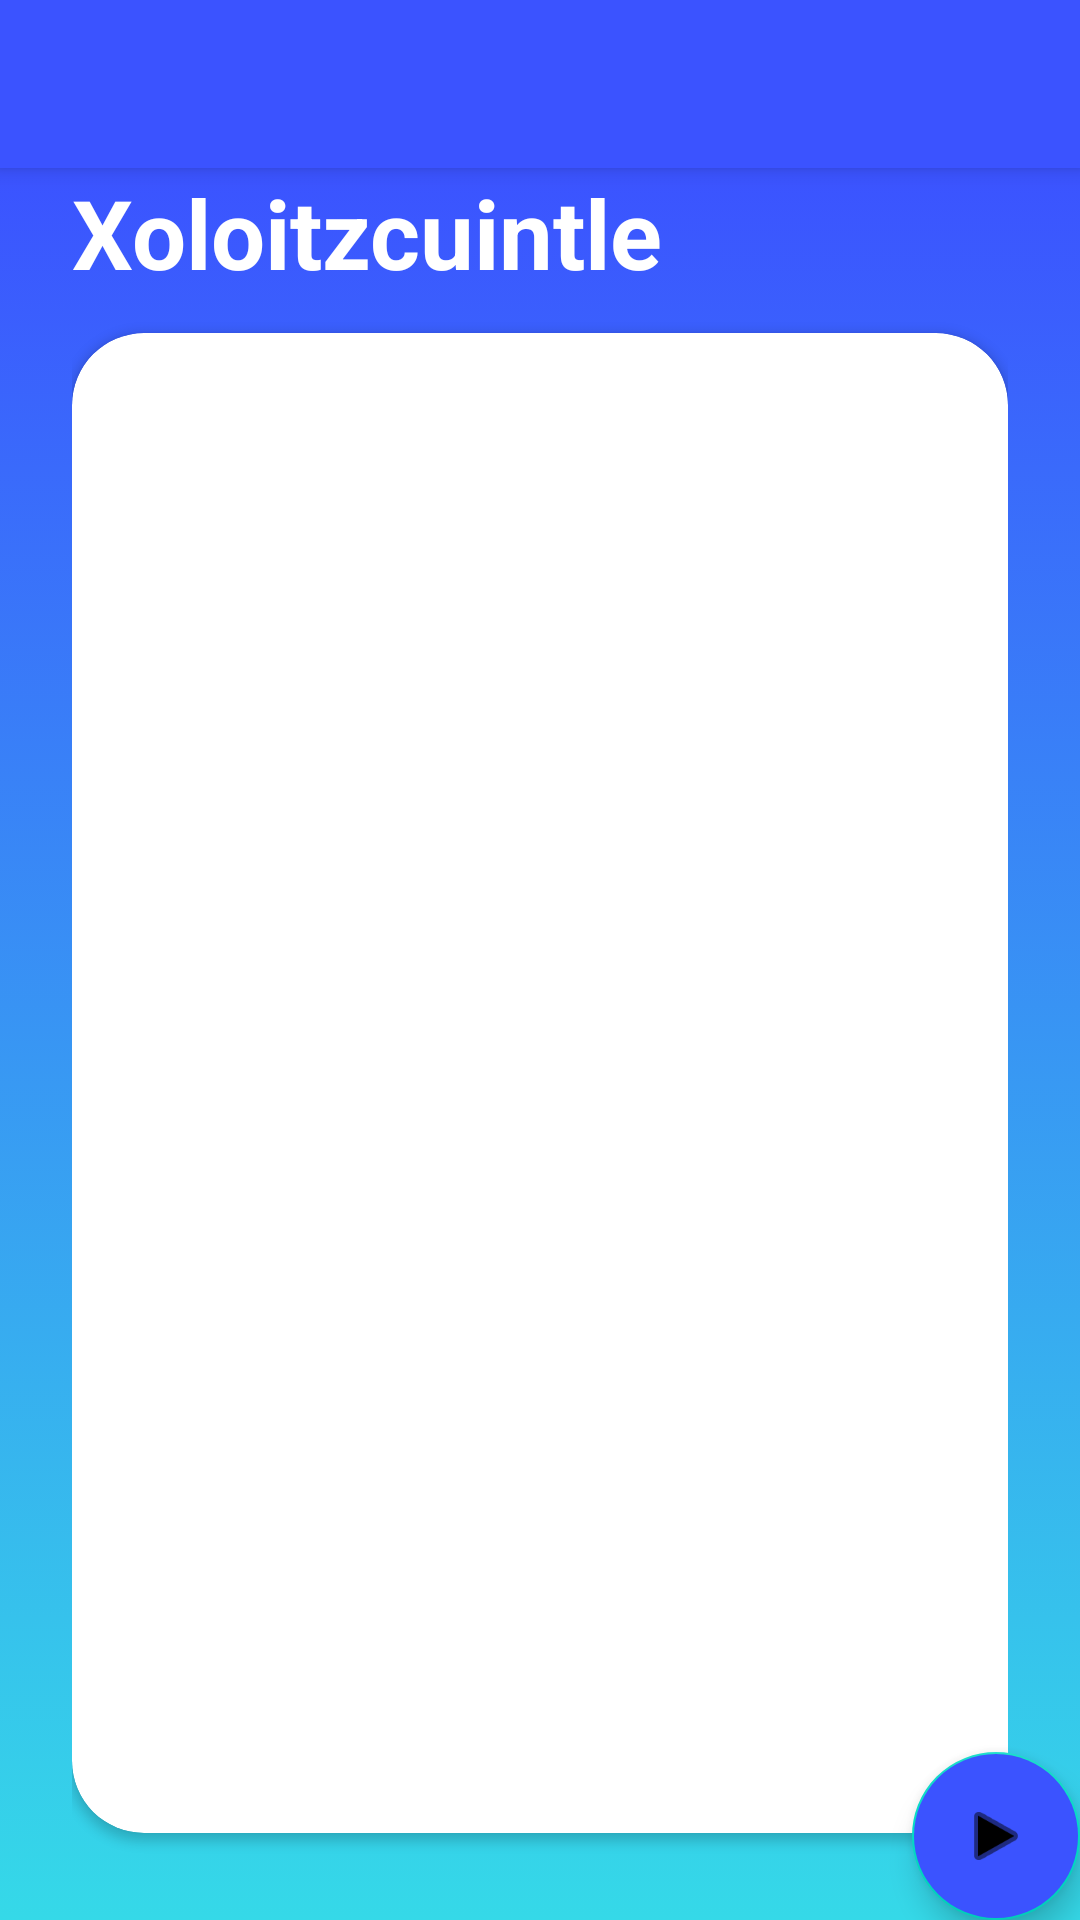

Named icons in this screenshot (1080w x 1920h) and their centers, (x=x, y=y):
play: (x=996, y=1836)
